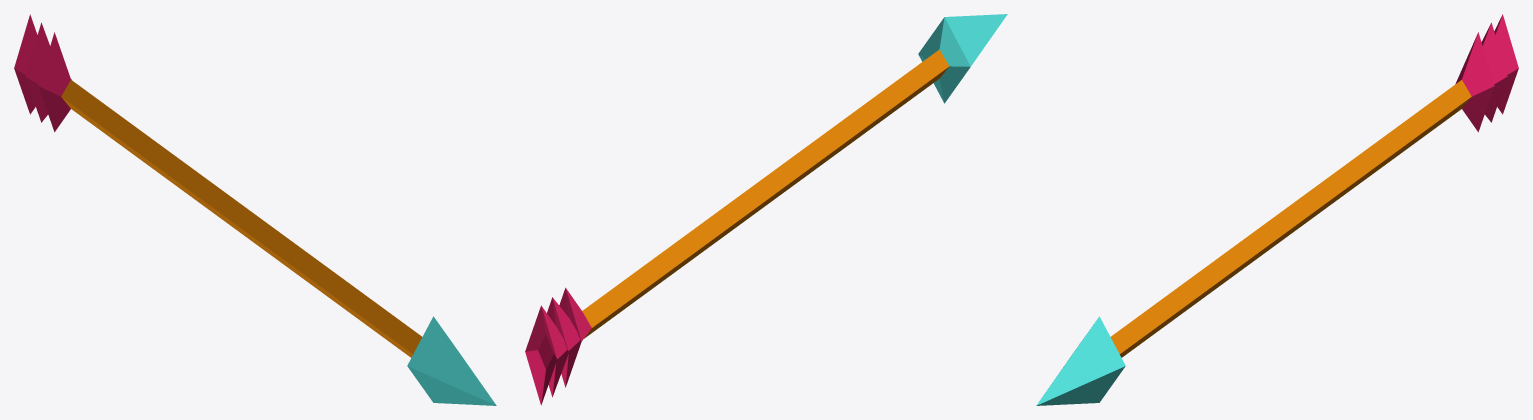
The model's file is Arrow.fbx.
The picture shows the model from 3 angles, left to right: view 1: azimuth 30°, elevation 25°; view 2: azimuth 150°, elevation 25°; view 3: azimuth 330°, elevation 25°; orthographic projection.
Parts seen in each view (by area): view 1: Arrow; view 2: Arrow; view 3: Arrow.
Part boxes in pixels (x1,y1,x2,y2): Arrow: (14,14,496,405); Arrow: (525,14,1007,405); Arrow: (1036,14,1518,405).
Bounding box in the file's own units: 17 × 31.09 × 261.
